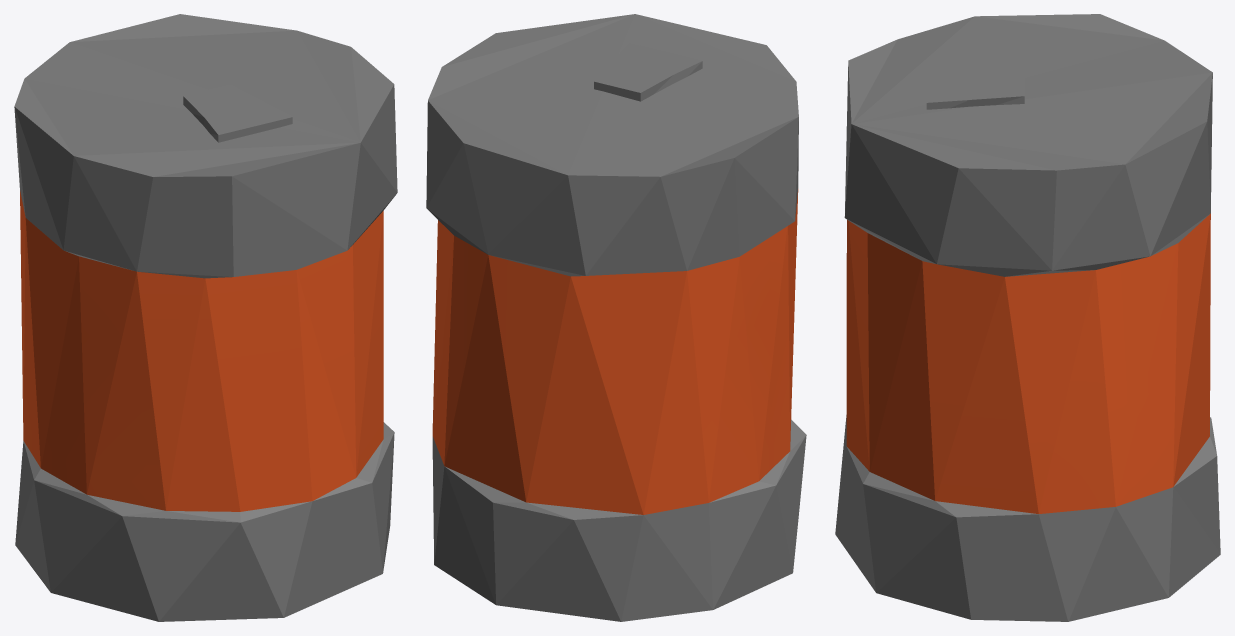
The model's file is Canned food_Red.fbx.
3 renders of one model, left to right at view 1: azimuth 30°, elevation 25°; view 2: azimuth 150°, elevation 25°; view 3: azimuth 270°, elevation 25°, orthographic.
Parts seen in each view (by area): view 1: Shovel_Red; view 2: Shovel_Red; view 3: Shovel_Red.
Part boxes in pixels (<box>): Shovel_Red: <box>14,14,397,621</box>; Shovel_Red: <box>426,14,806,621</box>; Shovel_Red: <box>835,14,1220,621</box>.
Size of the model in its own units: 0.0943 by 0.125 by 0.0953.
